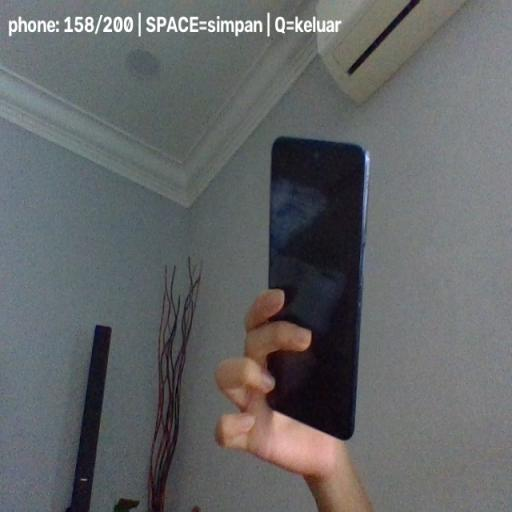Phone: (263, 136, 371, 440)
